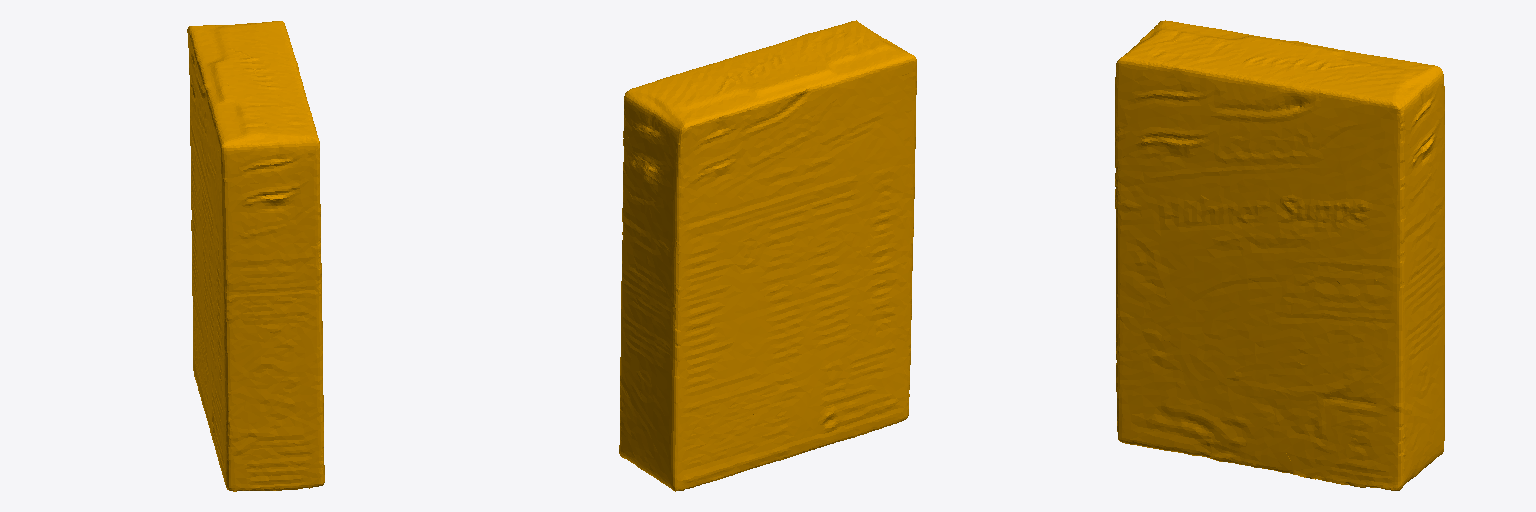
The robot description file, URDF, robot "object":
<?xml version="1.0" encoding="utf-8"?>
<robot name="object">
          <link name="object">
            <visual>
              <origin xyz="0.0 0.0 0.0" />
              <geometry>
                <mesh filename="package://scene_generation/object/kit/BroccoliSoup/BroccoliSoup.stl" scale="1.00 1.00 1.00" />
              </geometry>
            </visual>
            <collision>
              <origin xyz="0.0 0.0 0.0" />
              <geometry>
                <mesh filename="package://scene_generation/object/kit/BroccoliSoup/BroccoliSoup.stl" scale="1.00 1.00 1.00" />
              </geometry>
            </collision>
          </link>
        </robot>

--- What the picture shows (computed from the rendered views, not written in the file) ---
3 views of the same robot in one strip: view 1: azimuth 30°, elevation 25°; view 2: azimuth 150°, elevation 25°; view 3: azimuth 270°, elevation 25° (orthographic).
Robot: object — 1 links, 0 joints (none); root link object; default pose: every joint at zero.
Visible links, largest first — view 1: object; view 2: object; view 3: object.
Boxes of the visible links, x1=… form: object: x1=187, y1=21, x2=324, y2=491; object: x1=619, y1=20, x2=916, y2=491; object: x1=1115, y1=20, x2=1444, y2=490.
Size in the robot's own frame: 0.0666 by 0.0992 by 0.1297 metres.
Meshes: 1 distinct files referenced, 1 mesh visuals loaded (1 binary STL).